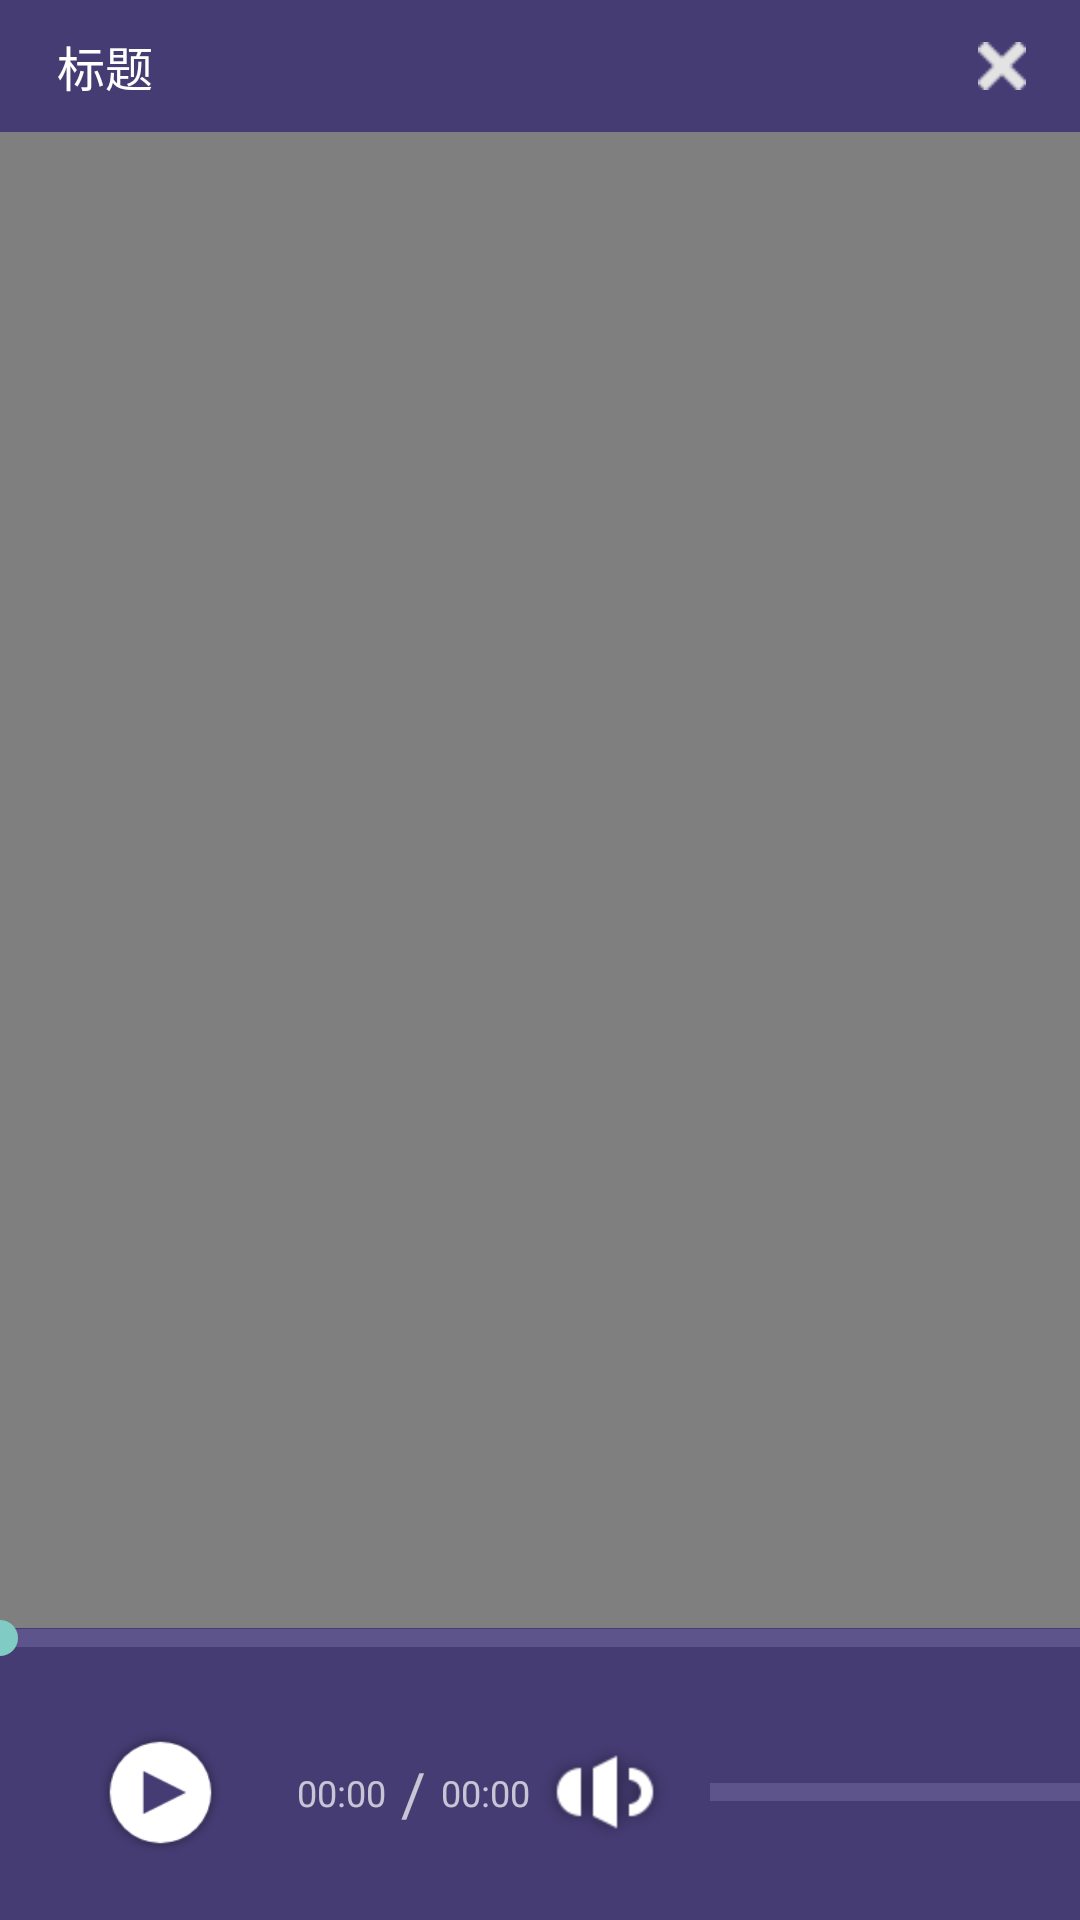

Icon click points for this 1080 x 1920 phone screenshot, format (x,y):
video close: (1002,66)
volume: (605,1792)
